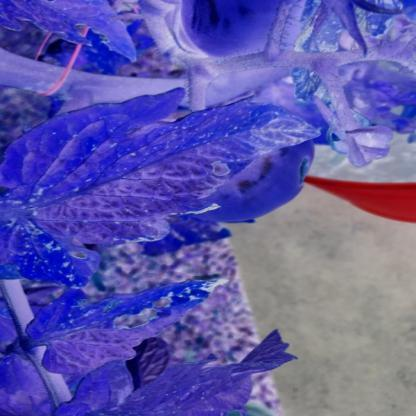Tomato Septoria leaf spot: (2, 92, 320, 284)
